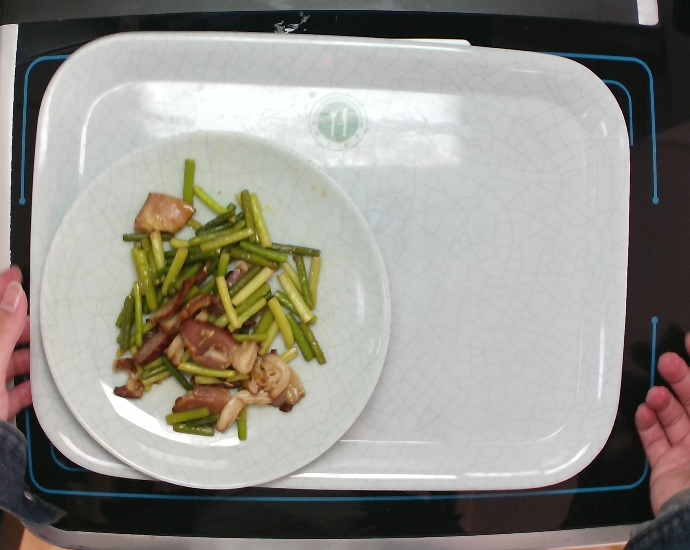JYsf-Da_Yuan_Pan: (37, 127, 393, 491)
